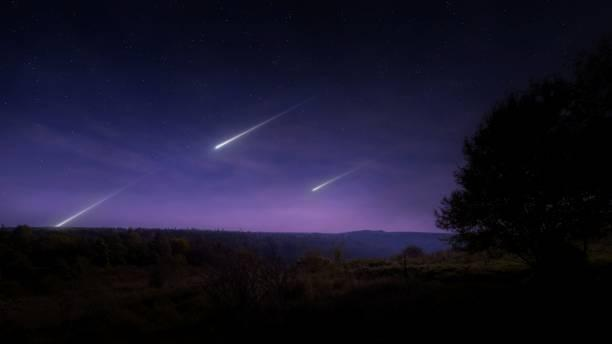meteor: (204, 139, 228, 156), (305, 185, 325, 198)
